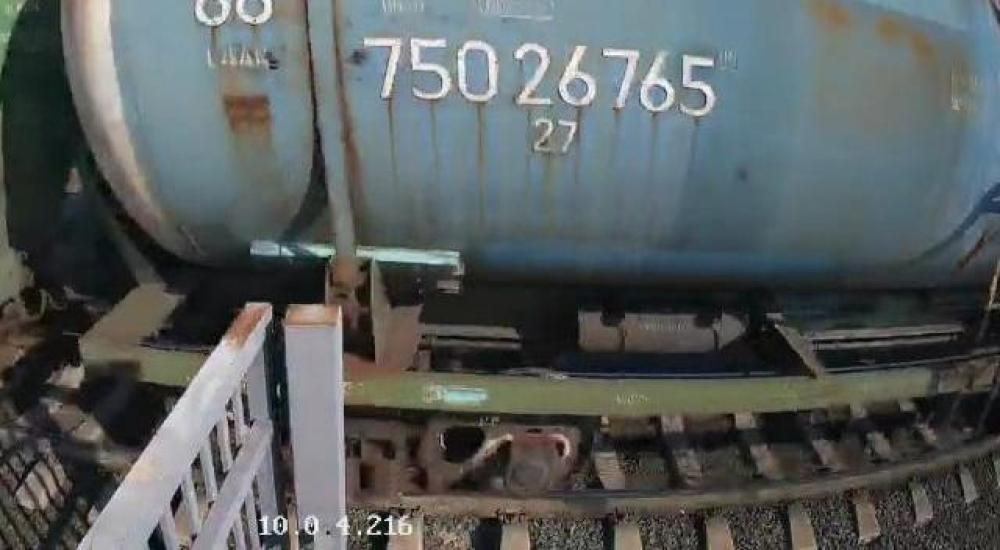Wagon-number: (355, 28, 723, 124)
